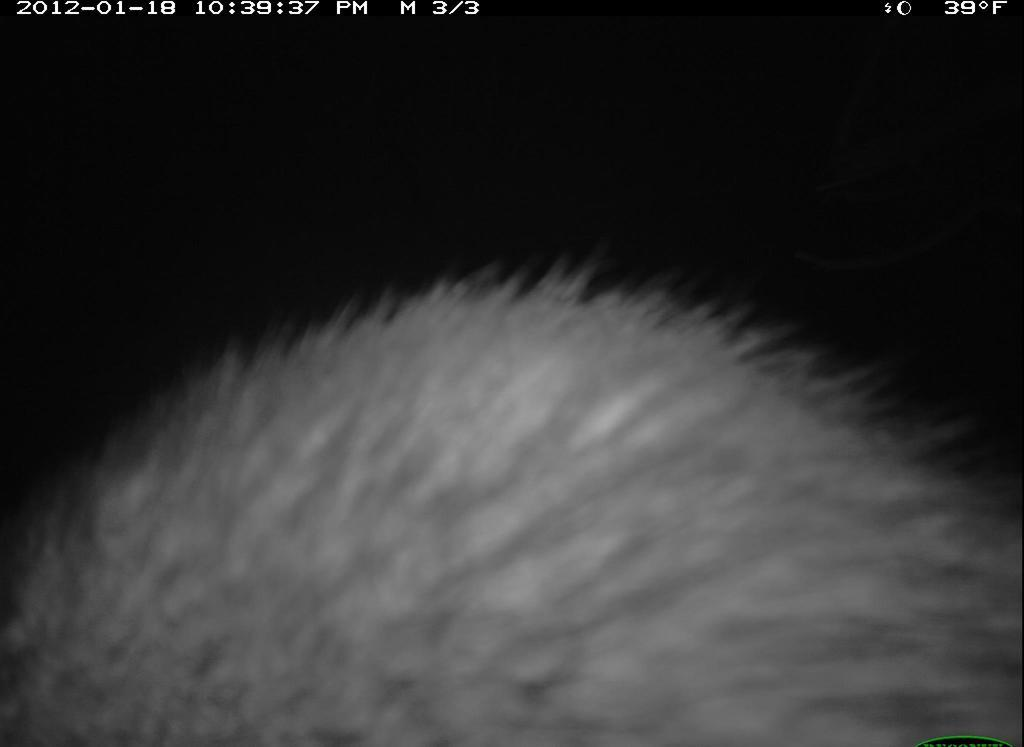raccoon: (8, 259, 1023, 747)
